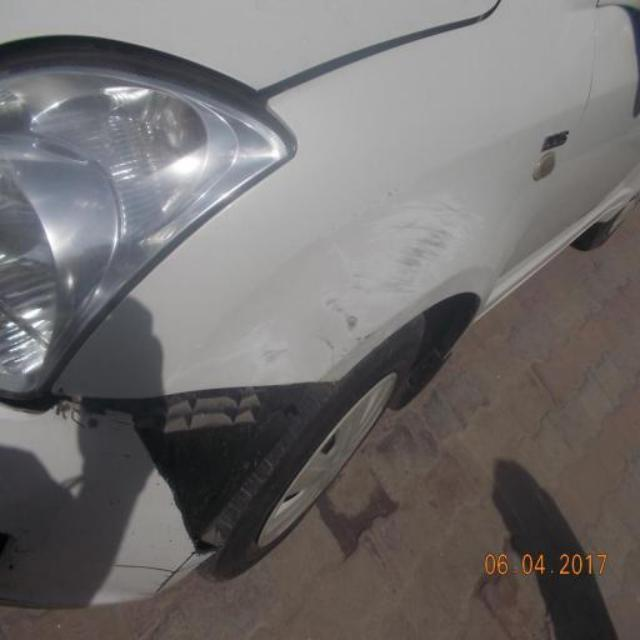crack: (104, 548, 198, 599)
dislocated part: (0, 384, 349, 558)
rub: (350, 192, 486, 296)
scratch: (235, 319, 295, 380), (323, 290, 365, 335), (353, 324, 382, 352), (317, 331, 339, 358)
